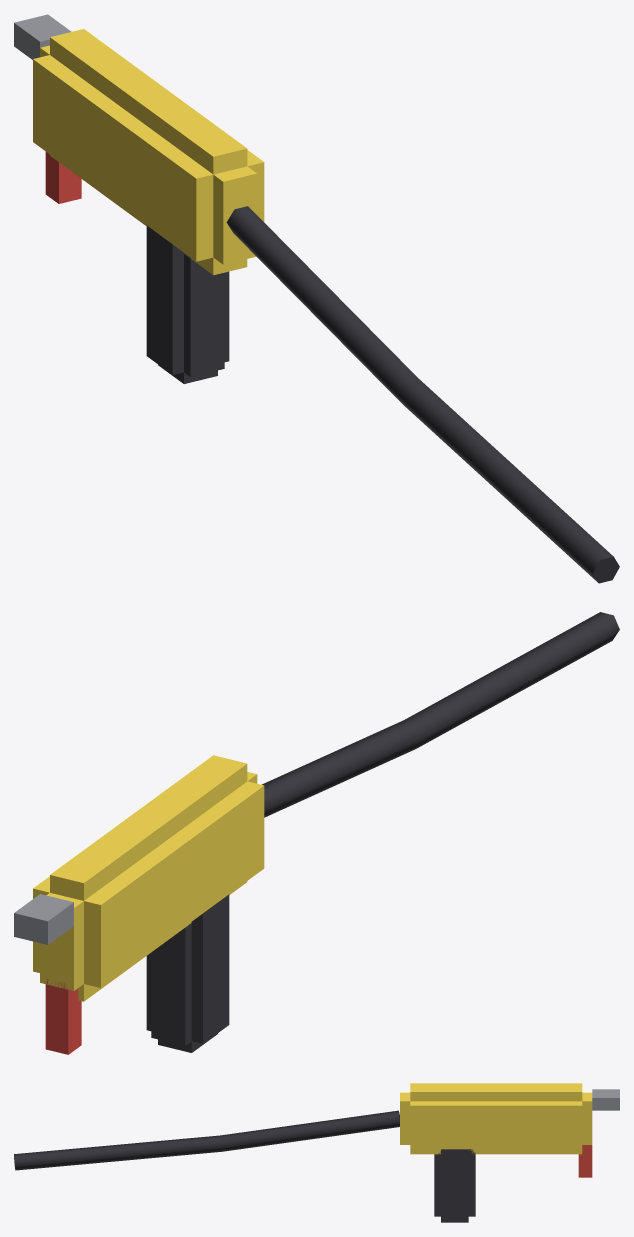
Rendered from nailgun.glb.
The picture shows the model from 3 angles, top to bottom: view 1: azimuth 30°, elevation 25°; view 2: azimuth 150°, elevation 25°; view 3: azimuth 270°, elevation 25°; orthographic projection. The views are drawn at different scales.
Visible parts, largest first — view 1: nailgun; view 2: nailgun; view 3: nailgun.
Part boxes in pixels (x1,y1,x2,y2): nailgun: (14, 14, 619, 583); nailgun: (14, 612, 619, 1054); nailgun: (14, 1083, 619, 1222).
Size of the model in its own units: 0.06 by 0.21 by 0.881.
